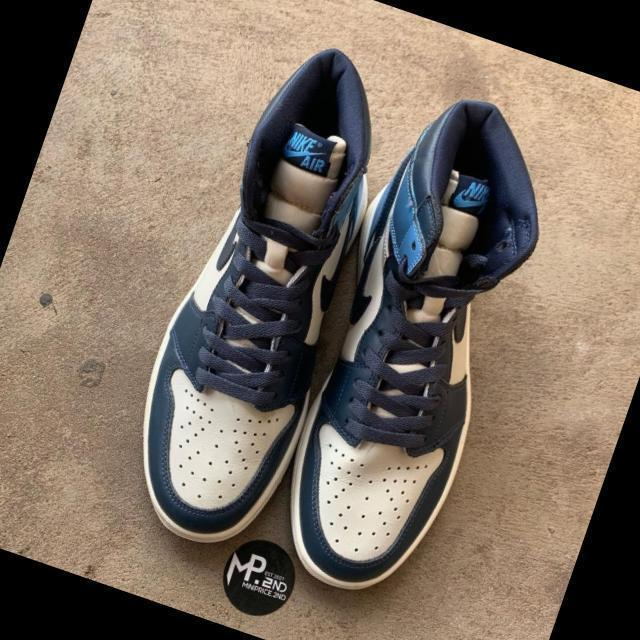nike original jordan 1: (252, 80, 580, 626), (100, 27, 422, 564)
